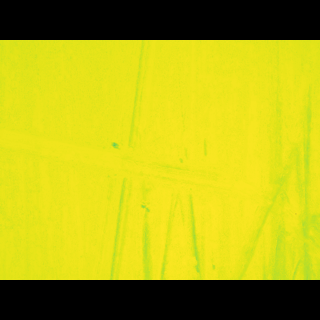Loch: (0, 129, 284, 197), (228, 69, 319, 250), (88, 68, 163, 250), (274, 185, 319, 239)
